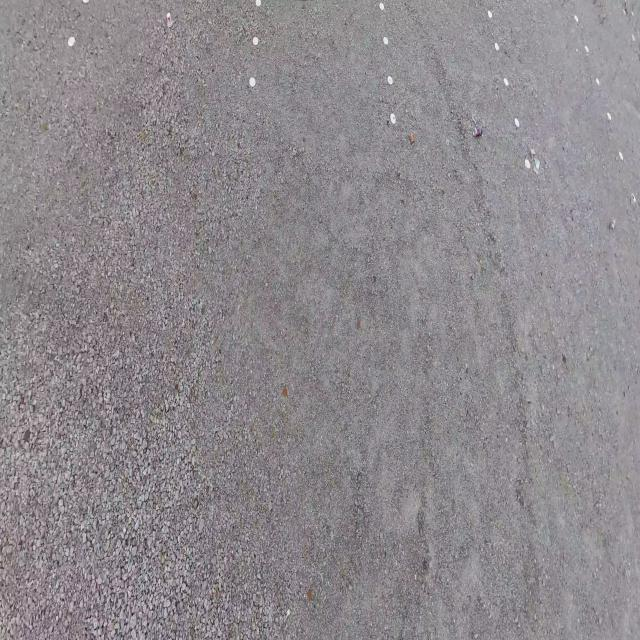rubbish: (533, 157, 540, 175), (166, 12, 173, 29), (610, 216, 616, 232), (473, 128, 483, 135), (409, 132, 414, 143), (530, 147, 536, 155), (470, 116, 475, 124), (446, 139, 450, 144)
